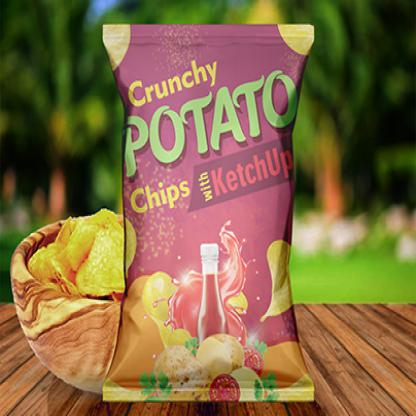potatochip: (97, 17, 320, 407)
